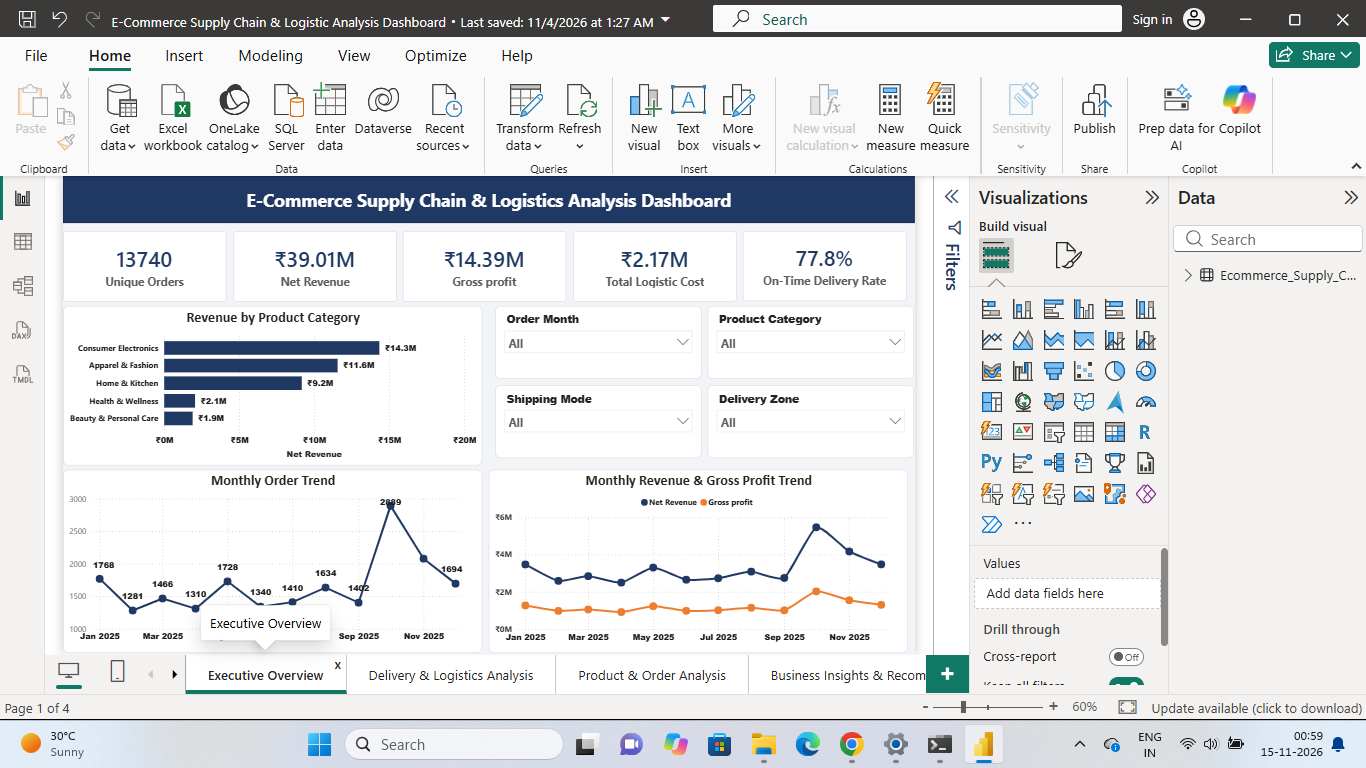

What the dashboard file says about the page in this screenshot:
{"tool":"powerbi","page":{"name":"Executive Overview","canvas":[1280,720],"ordinal":0},"visuals":[{"type":"cardVisual","fields":{"Data":["Ecommerce_Supply_Chain_Clean.Unique_Orders"]},"box":[0,82.5,245,106],"z":0},{"type":"cardVisual","fields":{"Data":["Ecommerce_Supply_Chain_Clean.Net_Revenue"]},"box":[255.4,82.6,245,106],"z":1000},{"type":"cardVisual","fields":{"Data":["Ecommerce_Supply_Chain_Clean.Gross profit"]},"box":[510.8,82.6,245,106],"z":2000},{"type":"lineChart","title":"Monthly Order Trend","fields":{"Category":["Ecommerce_Supply_Chain_Clean.Order_Month"],"Y":["Ecommerce_Supply_Chain_Clean.Total_Order_items"]},"box":[0,441.2,629.8,275],"z":3000},{"type":"lineChart","title":"Monthly Revenue & Gross Profit Trend","fields":{"Category":["Ecommerce_Supply_Chain_Clean.Order_Month"],"Y":["Ecommerce_Supply_Chain_Clean.Net_Revenue","Ecommerce_Supply_Chain_Clean.Gross_profits"]},"box":[639.9,441.2,629.8,275],"z":4000},{"type":"clusteredBarChart","title":"Revenue by Product Category","fields":{"Category":["Ecommerce_Supply_Chain_Clean.Product_Category"],"Y":["Ecommerce_Supply_Chain_Clean.Net Revenue"]},"box":[0,195.3,630,240],"z":5000},{"type":"slicer","fields":{"Values":["Ecommerce_Supply_Chain_Clean.Order_Month"]},"box":[650,195.3,310,110],"z":6000},{"type":"slicer","fields":{"Values":["Ecommerce_Supply_Chain_Clean.Product_Category"]},"box":[968.2,195.3,310,110],"z":7000},{"type":"slicer","fields":{"Values":["Ecommerce_Supply_Chain_Clean.Shipping_Mode"]},"box":[649.6,314.1,310,110],"z":8000},{"type":"slicer","fields":{"Values":["Ecommerce_Supply_Chain_Clean.Delivery_Zone"]},"box":[968.2,314.9,310,110],"z":9000},{"type":"shape","box":[0,0,1279.8,70.7],"z":10000},{"type":"cardVisual","fields":{"Data":["Ecommerce_Supply_Chain_Clean.Total_Logistic_Cost"]},"box":[766.2,82.7,245,106],"z":11000},{"type":"cardVisual","fields":{"Data":["Ecommerce_Supply_Chain_Clean.On-Time Delivery Rate"]},"box":[1021.5,82.7,246.3,105.8],"z":12000}]}

Visuals, with their boxes on the page's 1280x720 design canvas (x1, y1, x2, y2). These are canvas units, not pixel positions in the 1366x768 screenshot, which may show the page scaled, cropped or inside an application window:
cardVisual - Ecommerce_Supply_Chain_Clean.Unique_Orders: (left=0, top=82, right=245, bottom=188)
cardVisual - Ecommerce_Supply_Chain_Clean.Net_Revenue: (left=255, top=83, right=500, bottom=189)
cardVisual - Ecommerce_Supply_Chain_Clean.Gross profit: (left=511, top=83, right=756, bottom=189)
"Monthly Order Trend" lineChart: (left=0, top=441, right=630, bottom=716)
"Monthly Revenue & Gross Profit Trend" lineChart: (left=640, top=441, right=1270, bottom=716)
"Revenue by Product Category" clusteredBarChart: (left=0, top=195, right=630, bottom=435)
slicer - Ecommerce_Supply_Chain_Clean.Order_Month: (left=650, top=195, right=960, bottom=305)
slicer - Ecommerce_Supply_Chain_Clean.Product_Category: (left=968, top=195, right=1278, bottom=305)
slicer - Ecommerce_Supply_Chain_Clean.Shipping_Mode: (left=650, top=314, right=960, bottom=424)
slicer - Ecommerce_Supply_Chain_Clean.Delivery_Zone: (left=968, top=315, right=1278, bottom=425)
shape: (left=0, top=0, right=1280, bottom=71)
cardVisual - Ecommerce_Supply_Chain_Clean.Total_Logistic_Cost: (left=766, top=83, right=1011, bottom=189)
cardVisual - Ecommerce_Supply_Chain_Clean.On-Time Delivery Rate: (left=1022, top=83, right=1268, bottom=188)
